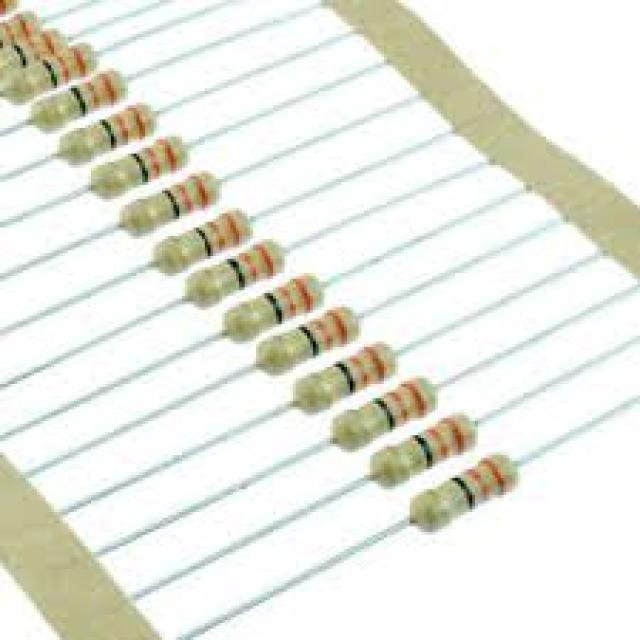Resistor: (411, 454, 520, 532), (294, 343, 406, 415), (151, 208, 260, 279), (178, 237, 286, 308), (332, 378, 436, 451), (370, 414, 474, 487), (90, 138, 198, 205), (255, 305, 359, 374), (28, 64, 128, 131), (120, 172, 222, 237), (224, 276, 324, 341), (62, 105, 156, 165)
